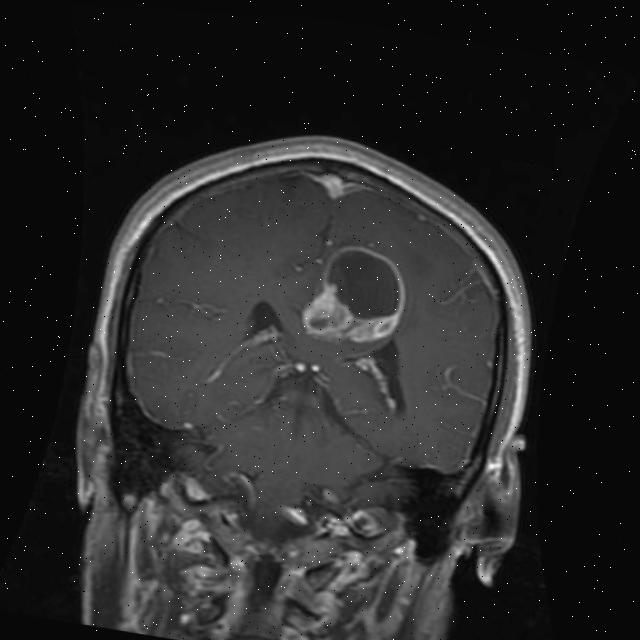Glioma: (299, 237, 411, 351)
